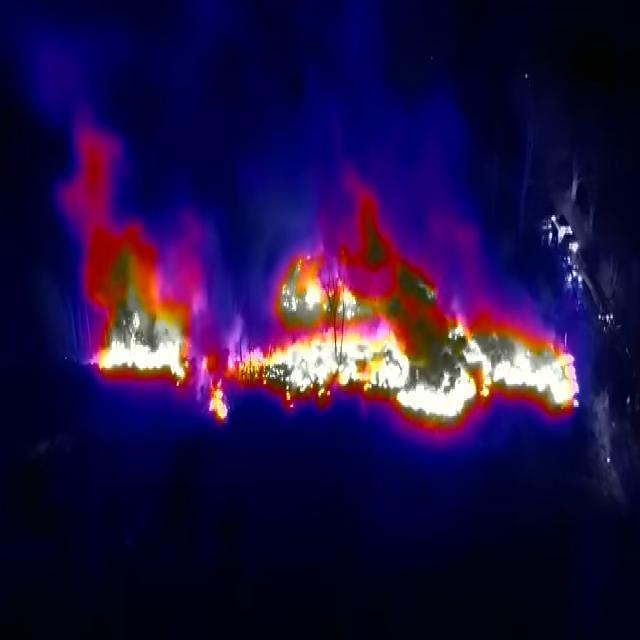fire: (196, 182, 581, 436), (79, 224, 195, 396)
